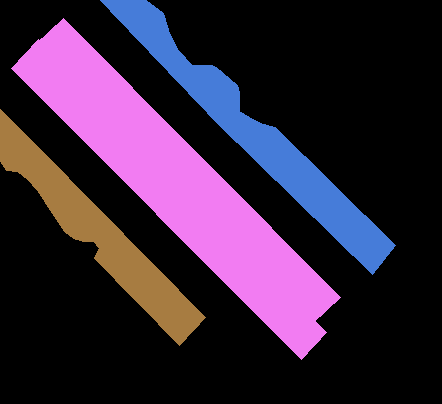parkingspot: (11, 39, 326, 359), (34, 18, 340, 322), (100, 0, 395, 274), (0, 109, 205, 345)
